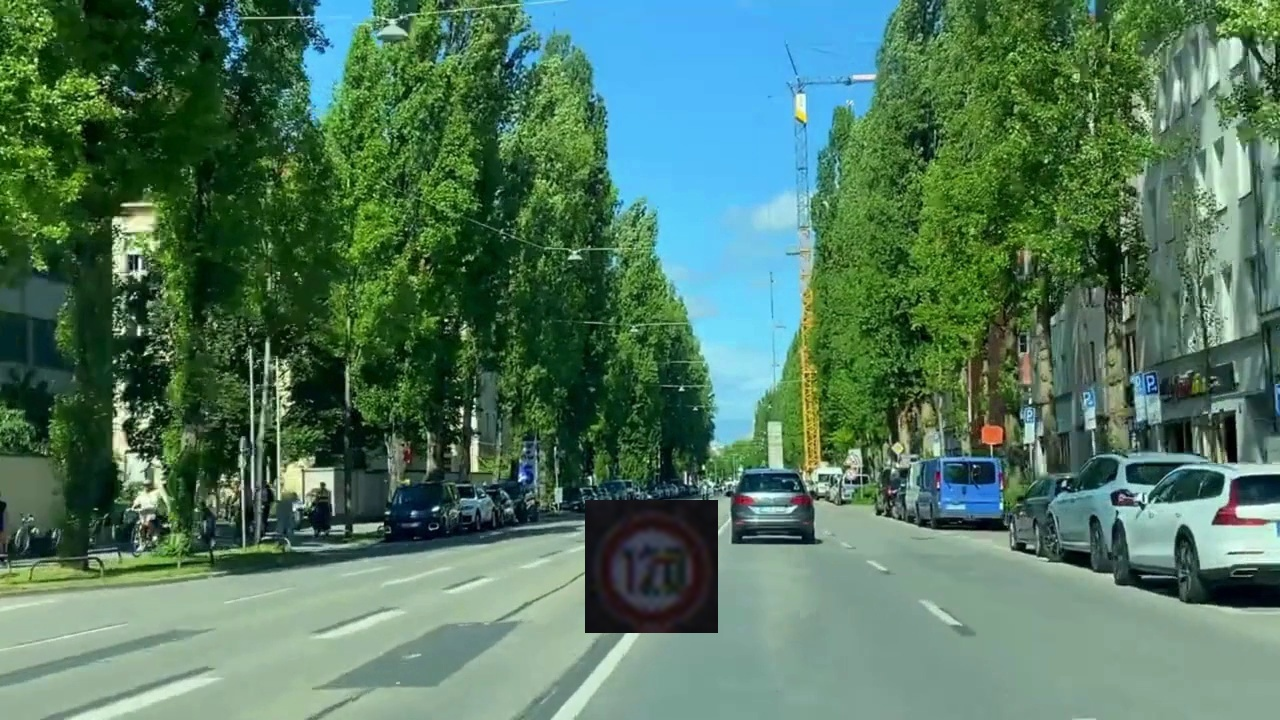Speed 120: (585, 500, 718, 633)
